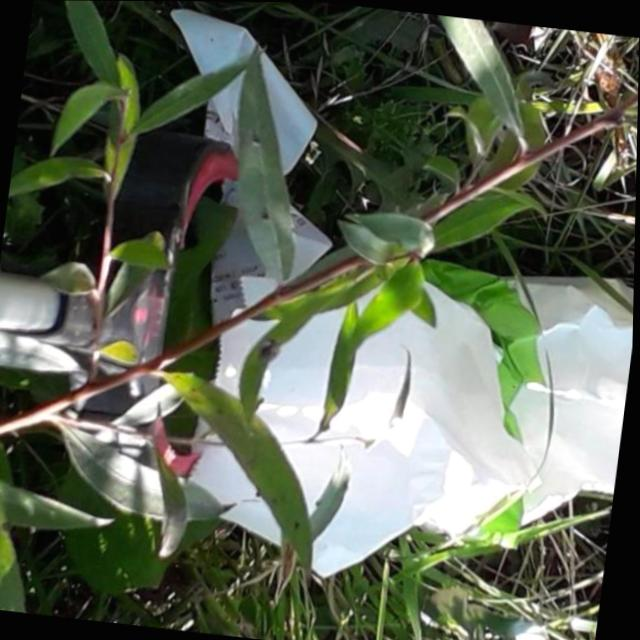Paper: (99, 1, 640, 619)
